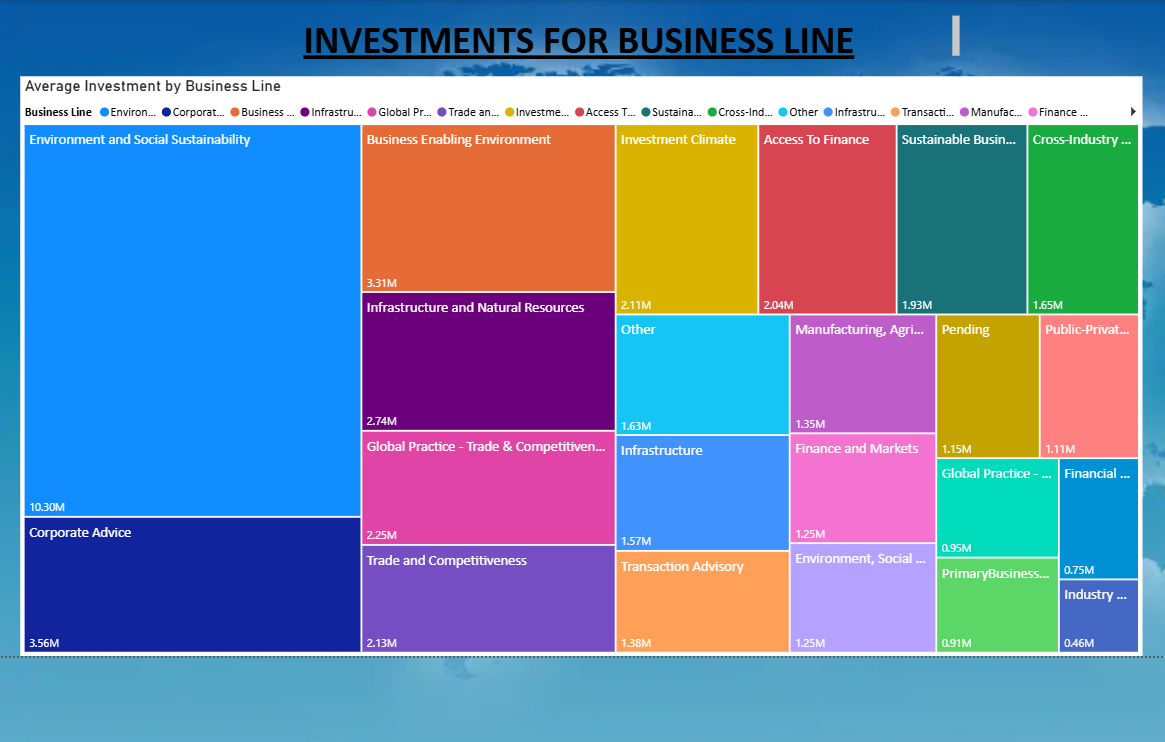

This screenshot's page, from the dashboard's own definition file:
{"tool":"powerbi","page":{"name":"Page 8","canvas":[1280,720],"ordinal":7},"visuals":[{"type":"treemap","fields":{"Values":["Cleaned dataset.Average Investment"],"Group":["Cleaned dataset.Business Line"]},"box":[23.3,83.7,1232.3,636.7],"z":0},{"type":"textbox","box":[220.9,12.3,838.4,57.6],"z":1000}]}

Visuals, with their boxes on the page's 1280x720 design canvas (x1, y1, x2, y2). These are canvas units, not pixel positions in the 1165x742 screenshot, which may show the page scaled, cropped or inside an application window:
treemap - Cleaned dataset.Average Investment x Cleaned dataset.Business Line: (23,84,1256,720)
textbox: (221,12,1059,70)
